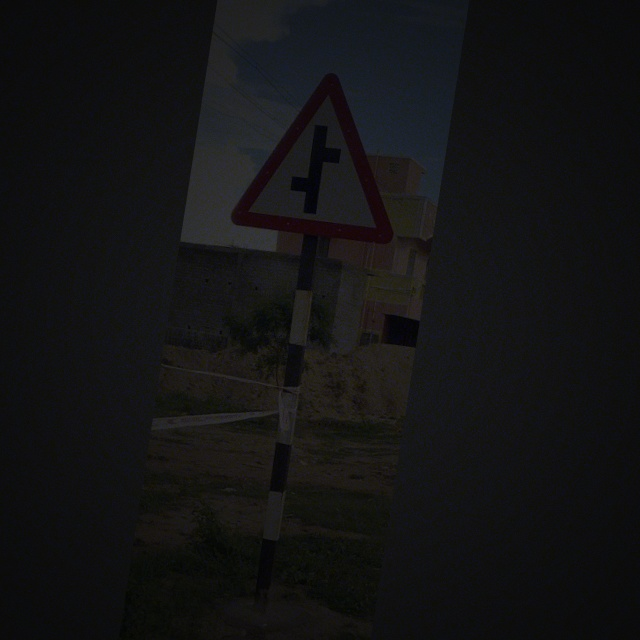Staggered_Intersection: (229, 52, 422, 257)
